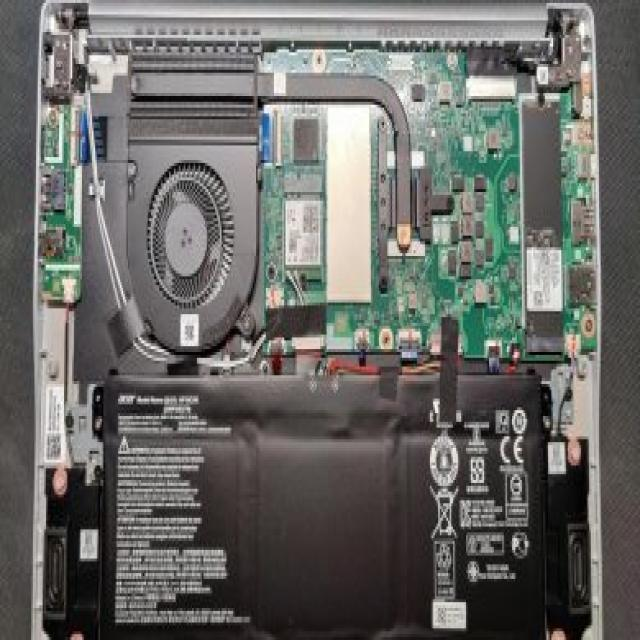NIC: (96, 372, 551, 640)
SSD: (96, 375, 550, 640), (280, 191, 327, 280)
